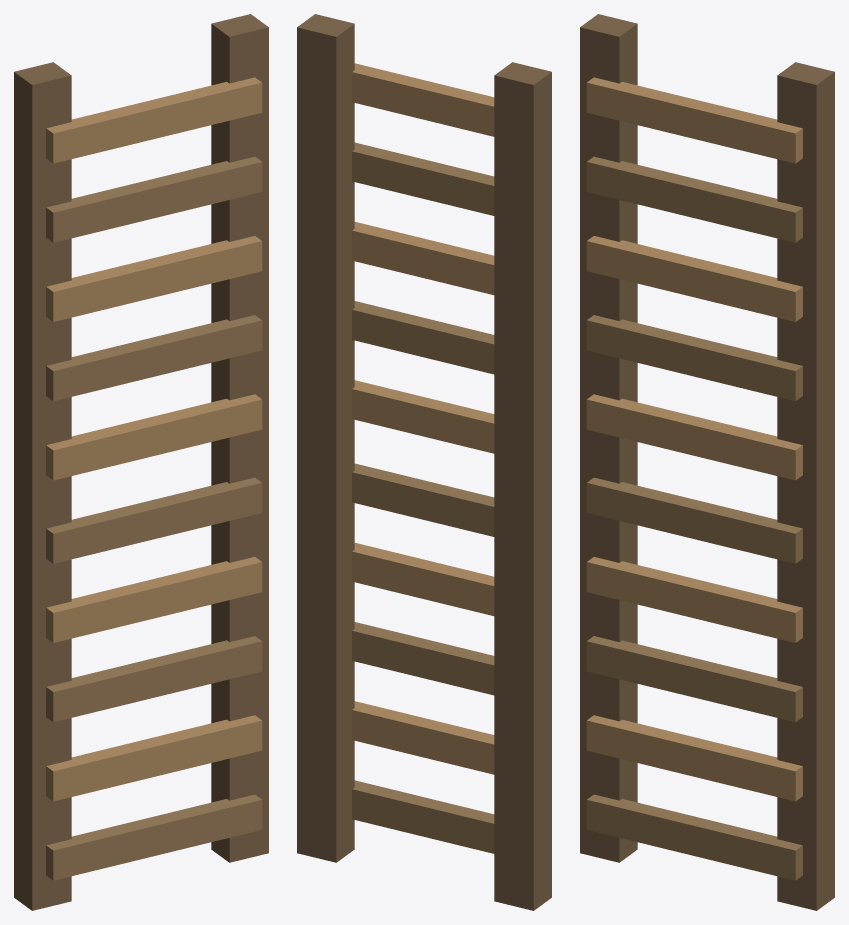
File: SM_Ladder_2m_01_A.fbx
3 views of the same model, side by side, from view 1: azimuth 30°, elevation 25°; view 2: azimuth 150°, elevation 25°; view 3: azimuth 330°, elevation 25° (orthographic).
Parts seen in each view (by area): view 1: polySurface49; view 2: polySurface49; view 3: polySurface49.
Part boxes in pixels (box(x1,y1,x2,y2)): polySurface49: box(14, 14, 268, 910); polySurface49: box(297, 14, 551, 910); polySurface49: box(580, 14, 834, 910).
Size of the model in its own units: 60 by 200 by 11.16.
1 material, 1 textured.
